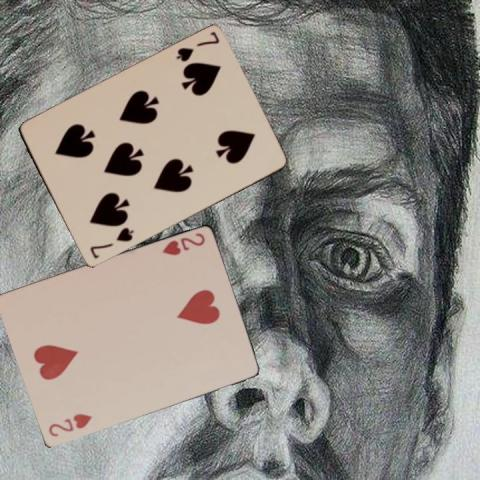2h: (45, 410, 94, 438), (159, 229, 207, 257)
7s: (87, 225, 135, 260), (172, 29, 220, 64)
